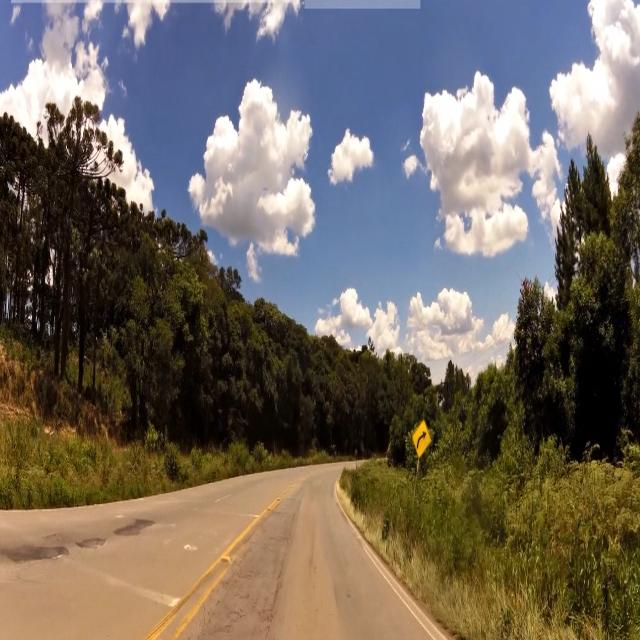A-2b: (411, 417, 435, 464)
